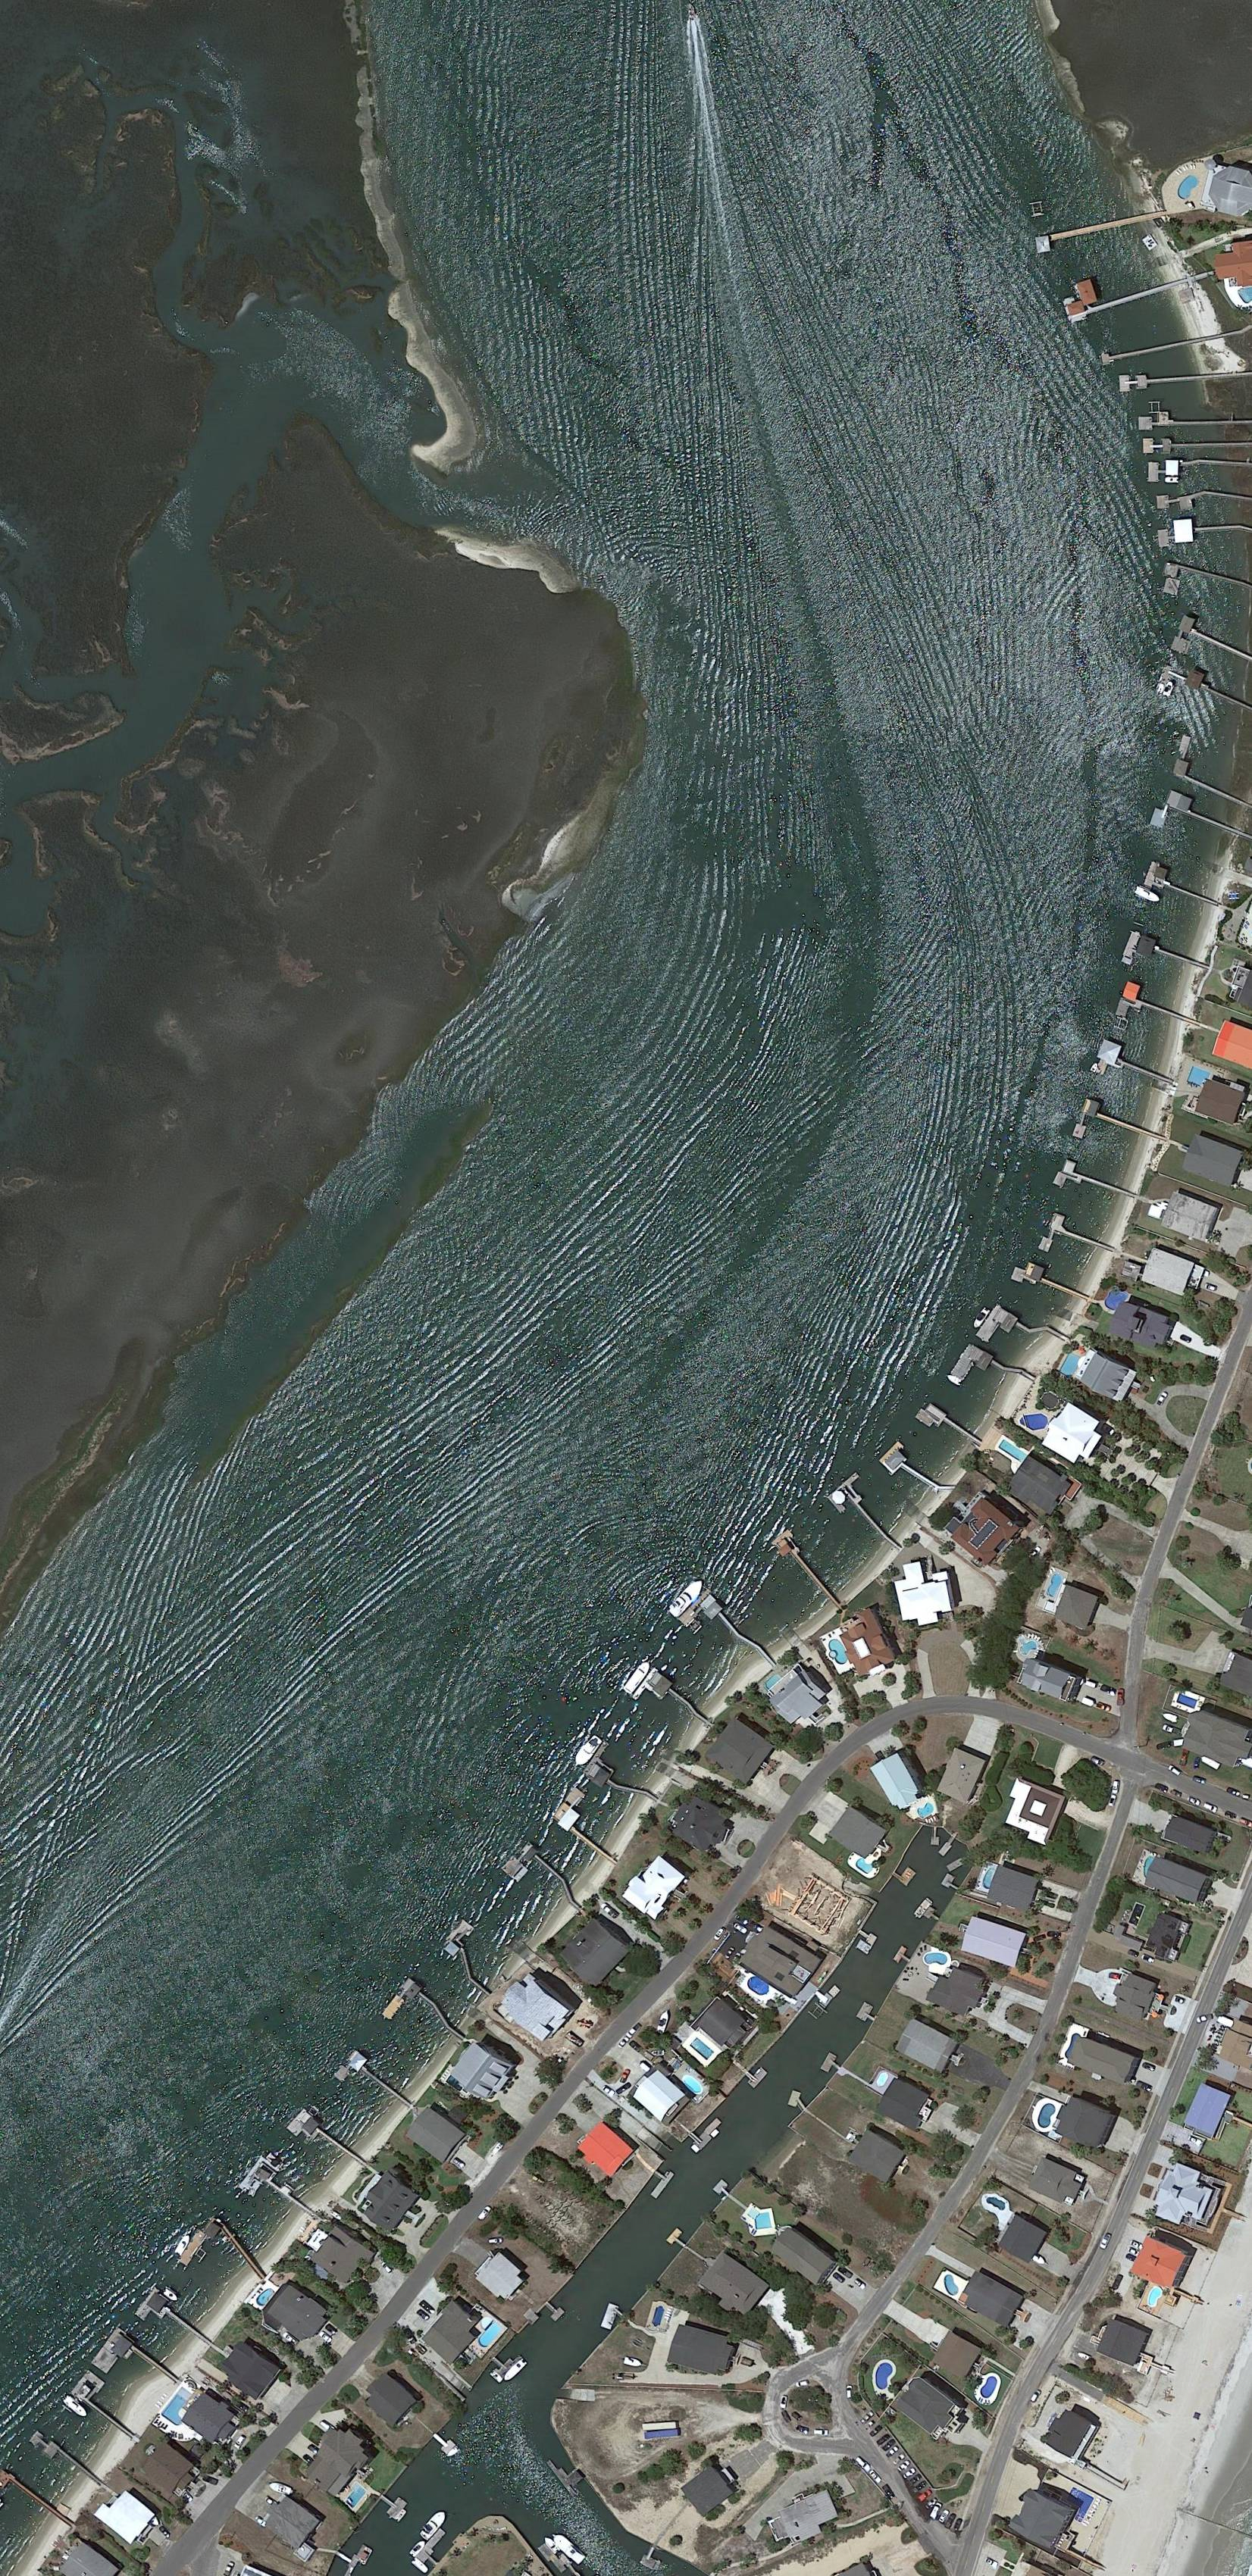harbor: (1058, 255, 1190, 324), (90, 2326, 179, 2408), (435, 1919, 516, 1998), (381, 1978, 462, 2057), (334, 2049, 414, 2127), (238, 2155, 320, 2231), (550, 1786, 629, 1863), (284, 2108, 366, 2182), (135, 2287, 215, 2359), (1160, 657, 1249, 720), (828, 1474, 899, 1551), (583, 1740, 661, 1810), (71, 2369, 148, 2440), (772, 1529, 841, 1608), (1037, 212, 1167, 253), (1170, 614, 1250, 678), (0, 2468, 74, 2537), (1037, 1211, 1116, 1273), (1116, 981, 1194, 1042), (1053, 1157, 1137, 1212), (677, 1589, 744, 1658), (30, 2430, 102, 2494), (1124, 930, 1204, 987), (1093, 1038, 1170, 1097), (501, 1840, 568, 1906), (1144, 861, 1221, 915), (1101, 332, 1219, 366), (879, 1441, 941, 1505), (1012, 1258, 1089, 1309), (633, 1667, 693, 1728), (915, 1400, 981, 1456), (1165, 790, 1242, 836), (1173, 759, 1247, 805), (1081, 1097, 1157, 1140), (950, 1342, 1006, 1398), (1163, 560, 1245, 598), (1119, 366, 1242, 391), (976, 1304, 1032, 1359), (1148, 457, 1249, 485), (177, 2215, 223, 2272), (1157, 517, 1242, 547), (547, 2451, 591, 2497), (1139, 411, 1249, 429), (1150, 486, 1208, 517), (1144, 439, 1247, 453), (414, 2528, 450, 2566), (490, 2343, 522, 2380), (692, 2118, 726, 2150), (644, 2165, 675, 2200), (600, 2303, 631, 2334), (378, 2487, 407, 2518), (782, 2086, 812, 2118), (812, 1980, 841, 2011), (639, 2543, 665, 2573), (743, 2062, 769, 2090), (430, 2430, 457, 2456), (853, 1927, 877, 1955), (820, 2052, 845, 2078), (665, 2228, 690, 2252), (1150, 802, 1171, 830), (542, 2298, 565, 2323), (856, 2001, 879, 2026), (892, 1863, 917, 1886), (892, 1945, 914, 1968), (1206, 491, 1252, 501), (938, 1835, 958, 1858), (1073, 1114, 1089, 1140), (941, 1873, 963, 1893), (713, 2178, 733, 2200), (923, 1906, 941, 1925), (946, 1856, 968, 1873), (932, 1827, 940, 1847)
swimming pool: (161, 2385, 200, 2426), (1060, 2487, 1094, 2527), (1101, 1285, 1134, 1313), (1035, 2100, 1061, 2132), (342, 2479, 370, 2509), (744, 1971, 774, 1999), (476, 2320, 503, 2349), (826, 1635, 849, 1667), (1058, 1350, 1083, 1380), (999, 1439, 1029, 1464), (872, 2359, 894, 2392), (978, 2372, 1001, 2402), (1186, 1065, 1213, 1089), (749, 2205, 774, 2231), (680, 2072, 705, 2098), (1019, 1413, 1050, 1433), (253, 2285, 278, 2310), (1045, 1571, 1065, 1600), (690, 2037, 715, 2060), (1017, 1633, 1040, 1658), (940, 2270, 961, 2297), (1145, 2284, 1165, 2310), (854, 1856, 876, 1876), (915, 1801, 937, 1820), (1176, 1692, 1199, 1710), (922, 1952, 950, 1966)
